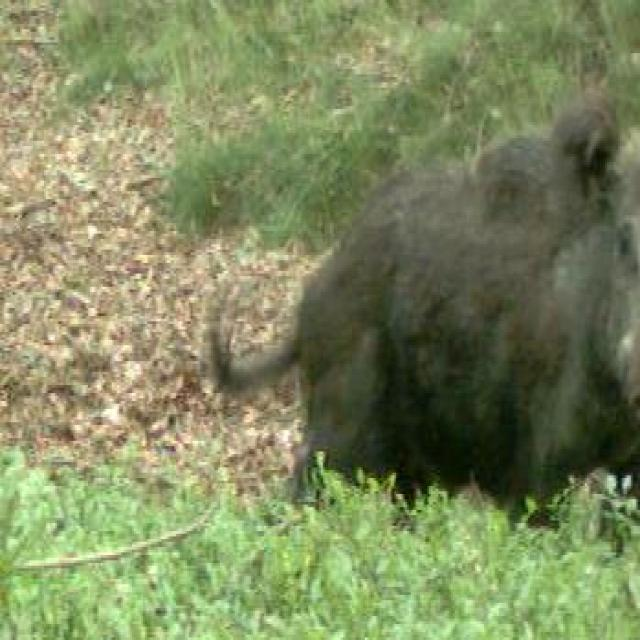pig: (175, 71, 640, 536)
